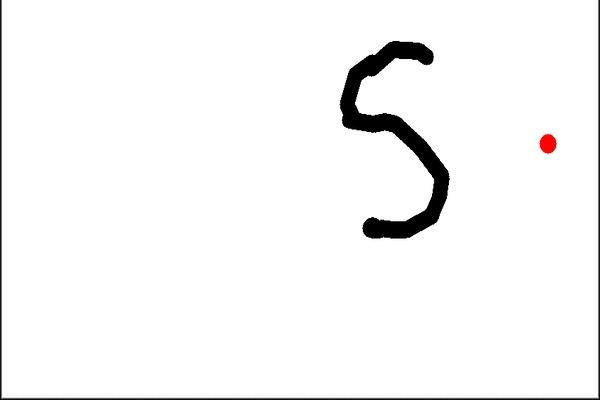S: (331, 34, 458, 248)
